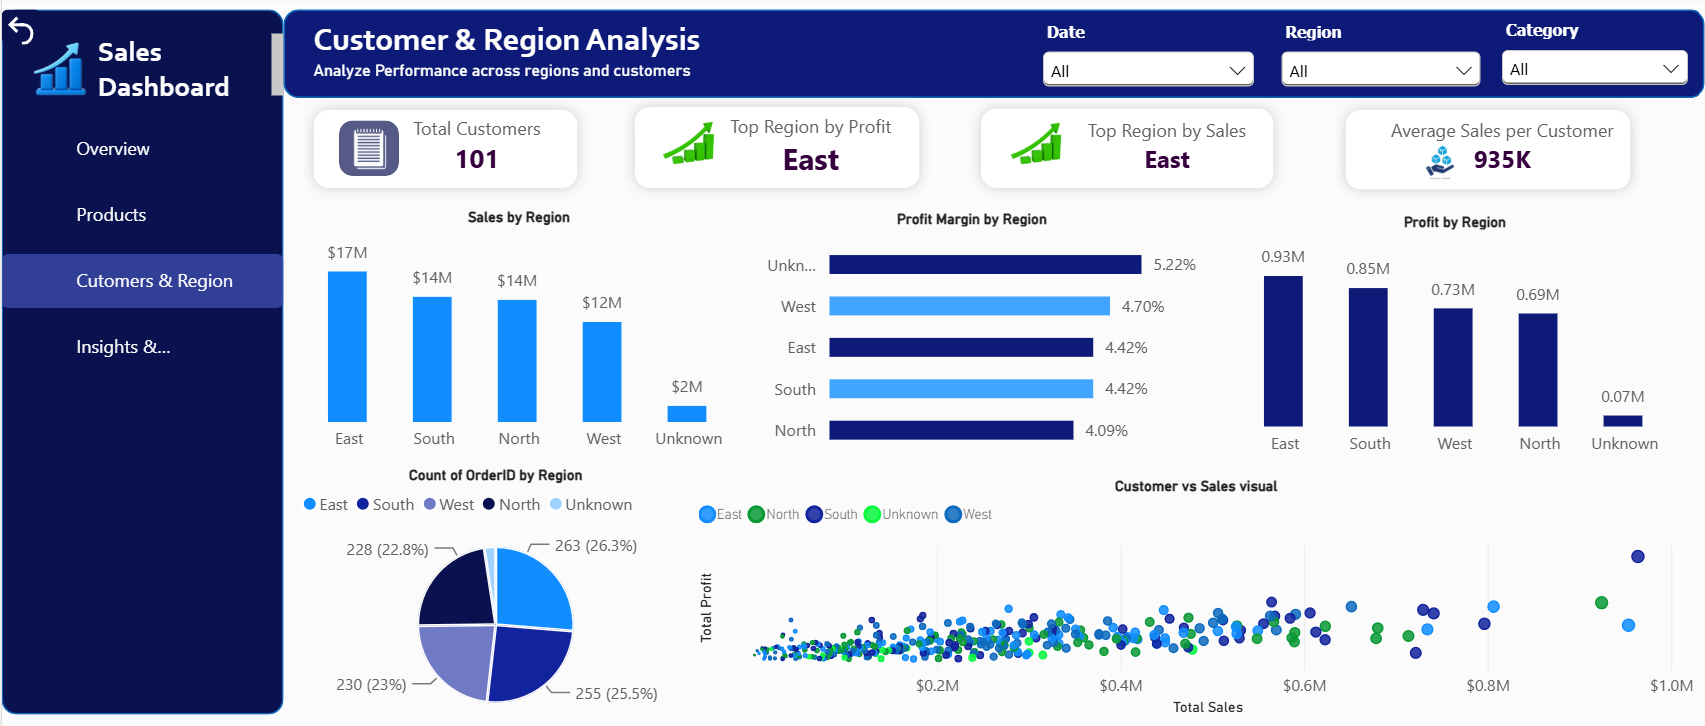

This screenshot's page, from the dashboard's own definition file:
{"tool":"powerbi","page":{"name":"Cutomers & Region","canvas":[1150,485],"ordinal":2},"visuals":[{"type":"shape","box":[7.1,7.1,188.1,470.2],"z":0},{"type":"pageNavigator","box":[7,103,188,170],"z":1000},{"type":"textbox","box":[67,30,128,61],"z":2000},{"type":"image","box":[18,20,60,65],"z":3000},{"type":"shape","box":[195,7,948,59],"z":4000},{"type":"slicer","fields":{"Values":["SalesData.OrderDate"]},"box":[695.7,15.2,151.7,59.7],"z":5000},{"type":"slicer","fields":{"Values":["SalesData.Region"]},"box":[855.4,15.2,142.6,59.7],"z":6000},{"type":"slicer","fields":{"Values":["SalesData.Category"]},"box":[1002,14.2,133.5,59.7],"z":7000},{"type":"shape","box":[421.2,63.6,206.1,70.7],"z":8000},{"type":"shape","box":[207.1,65.7,191.9,68.7],"z":9000},{"type":"shape","box":[894.9,65.7,206.1,69.7],"z":10000},{"type":"shape","box":[651.5,64.6,211.1,69.7],"z":11000},{"type":"cardVisual","fields":{"Data":["measure.Total Customers"]},"box":[236.4,62.6,175.8,71.7],"z":12000},{"type":"cardVisual","fields":{"Data":["measure.Top Region by Sales"]},"box":[696,62.6,175.8,71.7],"z":13000},{"type":"cardVisual","fields":{"Data":["measure.Average Sales per Customer"]},"box":[914.1,62.6,186.9,71.7],"z":14000},{"type":"clusteredColumnChart","title":"Sales by Region","fields":{"Category":["SalesData.Region"],"Y":["Sum(SalesData.Sales)"]},"box":[202,126.3,300,178.8],"z":15000},{"type":"clusteredBarChart","title":"Profit Margin by Region","fields":{"Category":["SalesData.Region"],"Y":["measure.Profit margin"]},"box":[504,127.3,300,178.8],"z":16000},{"type":"pieChart","fields":{"Category":["SalesData_1000Rows_WithIssues_copy.Region"],"Y":["CountNonNull(SalesData_1000Rows_WithIssues_copy.OrderID)"]},"box":[207.1,298,258.6,186.9],"z":17000},{"type":"scatterChart","title":"Customer vs Sales visual","fields":{"X":["Sum(SalesData.Sales)"],"Y":["Sum(SalesData.Profit)"],"Category":["SalesData.CustomerName"],"Size":["measure.Total Sales"],"Series":["SalesData.Region"]},"box":[471.7,305.1,663.6,171.7],"z":18000},{"type":"clusteredColumnChart","title":"Profit by Region","fields":{"Category":["SalesData.Region"],"Y":["Sum(SalesData.Profit)"]},"box":[826.3,129.3,300,178.8],"z":19000},{"type":"textbox","box":[215.2,14.1,266.7,385.9],"z":20000},{"type":"textbox","box":[215.2,36.4,266.7,363.6],"z":21000},{"type":"cardVisual","fields":{"Data":["measure.Top Region by Profit"]},"box":[458.6,62.6,175.8,71.7],"z":22000},{"type":"image","box":[954.5,90.9,22.2,35.4],"z":23000},{"type":"image","box":[443.4,74.7,43.4,42.4],"z":24000},{"type":"image","box":[217.2,64.6,70.8,69.6],"z":25000},{"type":"shape","box":[232.3,80.8,39.4,37.1],"z":26000},{"type":"actionButton","box":[7,7,23,23],"z":27000},{"type":"image","box":[674.7,74.7,43.4,42.4],"z":28000},{"type":"image","box":[217.2,64.6,70.8,69.6],"z":29000},{"type":"image","box":[32,13,19,15],"z":30000},{"type":"image","box":[22,235,26,34],"z":31000},{"type":"image","box":[22,184,29.2,51.1],"z":31001},{"type":"image","box":[22.1,139.3,28.9,48.1],"z":31002},{"type":"image","box":[21,96,29,48.7],"z":31003}]}

Visuals, with their boxes on the page's 1150x485 design canvas (x1, y1, x2, y2). These are canvas units, not pixel positions in the 1705x726 screenshot, which may show the page scaled, cropped or inside an application window:
shape: rect(7, 7, 195, 477)
pageNavigator: rect(7, 103, 195, 273)
textbox: rect(67, 30, 195, 91)
image: rect(18, 20, 78, 85)
shape: rect(195, 7, 1143, 66)
slicer - SalesData.OrderDate: rect(696, 15, 847, 75)
slicer - SalesData.Region: rect(855, 15, 998, 75)
slicer - SalesData.Category: rect(1002, 14, 1136, 74)
shape: rect(421, 64, 627, 134)
shape: rect(207, 66, 399, 134)
shape: rect(895, 66, 1101, 135)
shape: rect(652, 65, 863, 134)
cardVisual - measure.Total Customers: rect(236, 63, 412, 134)
cardVisual - measure.Top Region by Sales: rect(696, 63, 872, 134)
cardVisual - measure.Average Sales per Customer: rect(914, 63, 1101, 134)
"Sales by Region" clusteredColumnChart: rect(202, 126, 502, 305)
"Profit Margin by Region" clusteredBarChart: rect(504, 127, 804, 306)
pieChart - SalesData_1000Rows_WithIssues_copy.Region x CountNonNull(SalesData_1000Rows_WithIssues_copy.OrderID): rect(207, 298, 466, 485)
"Customer vs Sales visual" scatterChart: rect(472, 305, 1135, 477)
"Profit by Region" clusteredColumnChart: rect(826, 129, 1126, 308)
textbox: rect(215, 14, 482, 400)
textbox: rect(215, 36, 482, 400)
cardVisual - measure.Top Region by Profit: rect(459, 63, 634, 134)
image: rect(954, 91, 977, 126)
image: rect(443, 75, 487, 117)
image: rect(217, 65, 288, 134)
shape: rect(232, 81, 272, 118)
actionButton: rect(7, 7, 30, 30)
image: rect(675, 75, 718, 117)
image: rect(217, 65, 288, 134)
image: rect(32, 13, 51, 28)
image: rect(22, 235, 48, 269)
image: rect(22, 184, 51, 235)
image: rect(22, 139, 51, 187)
image: rect(21, 96, 50, 145)
